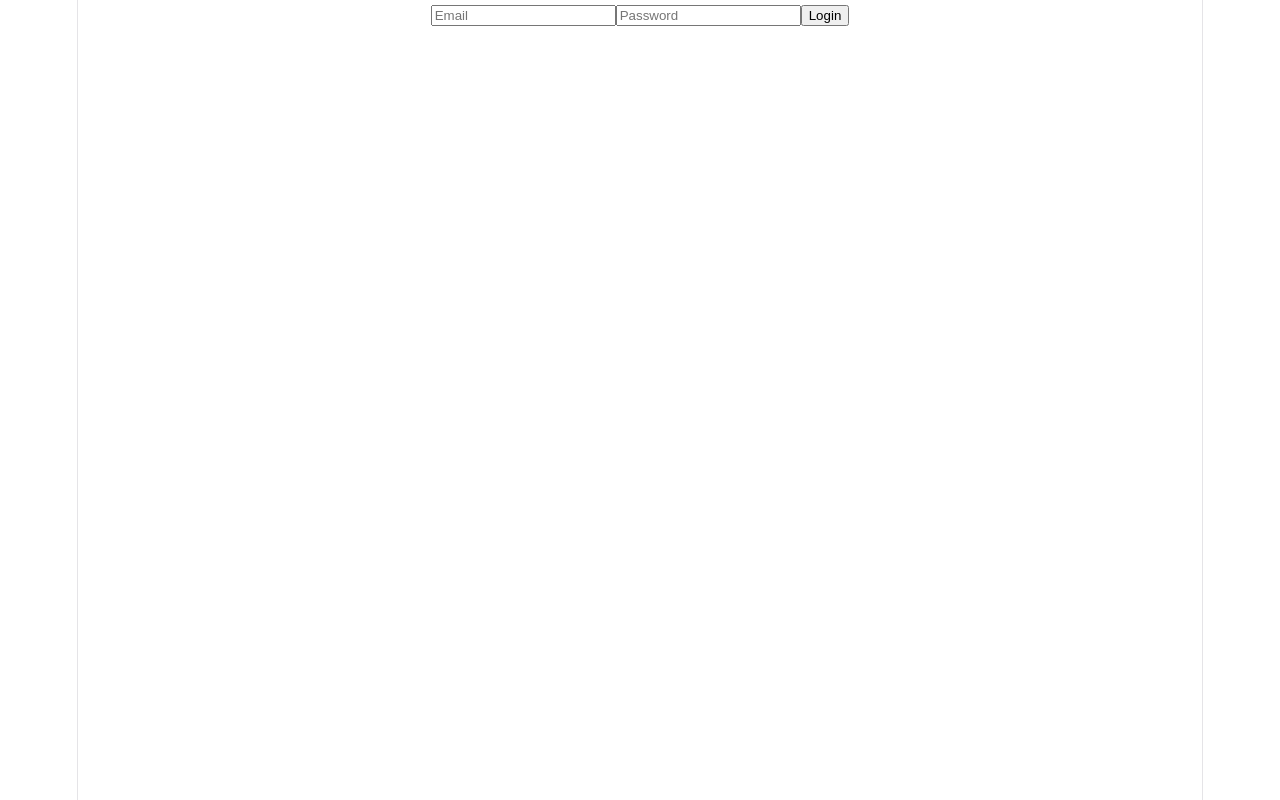
server báo lỗi thì hiện thông báo
Type "an@test.com" into the field with placeholder "Email".
click(523, 16); type("an@test.com")  # box [431,5,616,26]
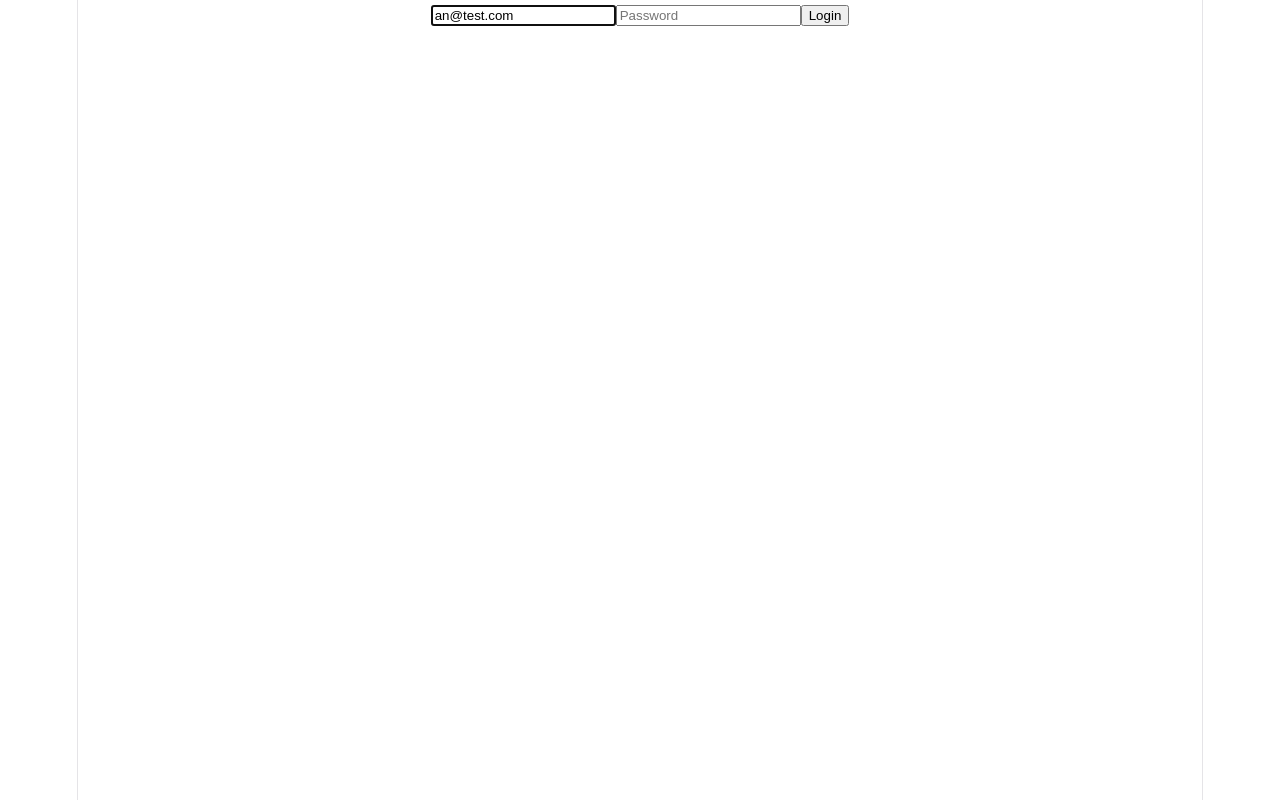
Type "sai" into the password field with placeholder "Password".
click(708, 16); type("sai")  # box [616,5,801,26]
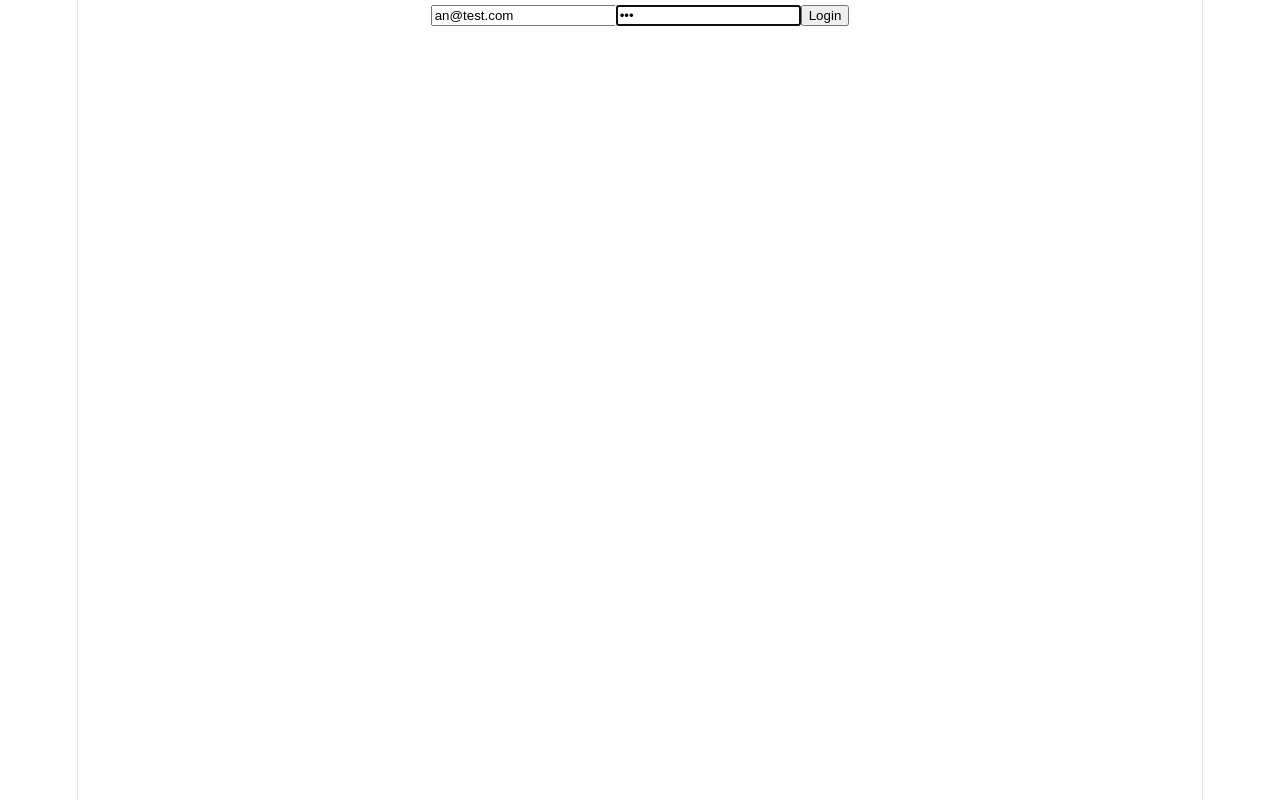
Click the button "Login".
click(825, 16)  # box [801,5,849,26]
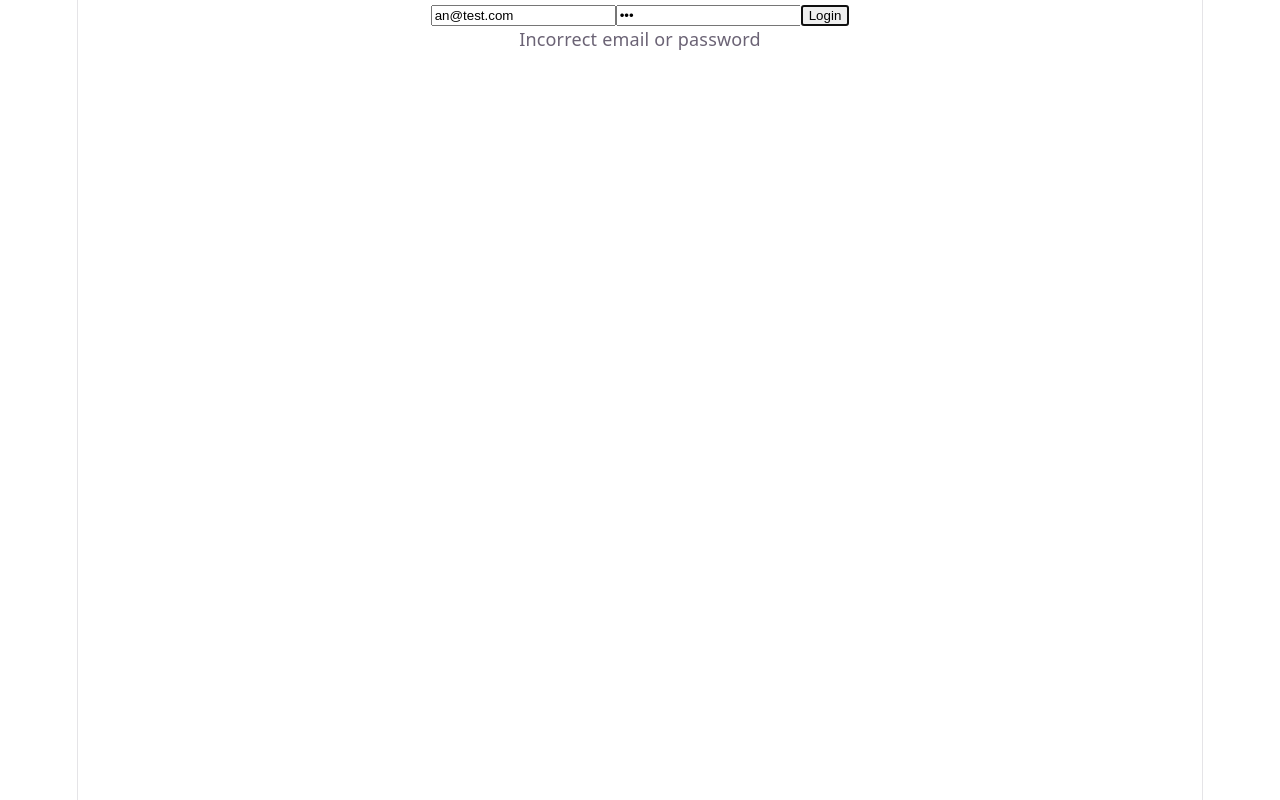
Check: the text "Incorrect email or password" is shown, box [519,27,761,51]
